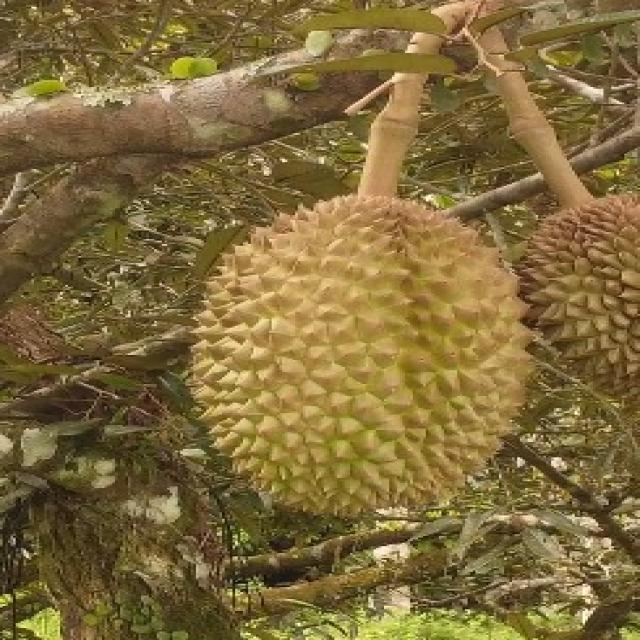mature: (190, 192, 536, 516)
